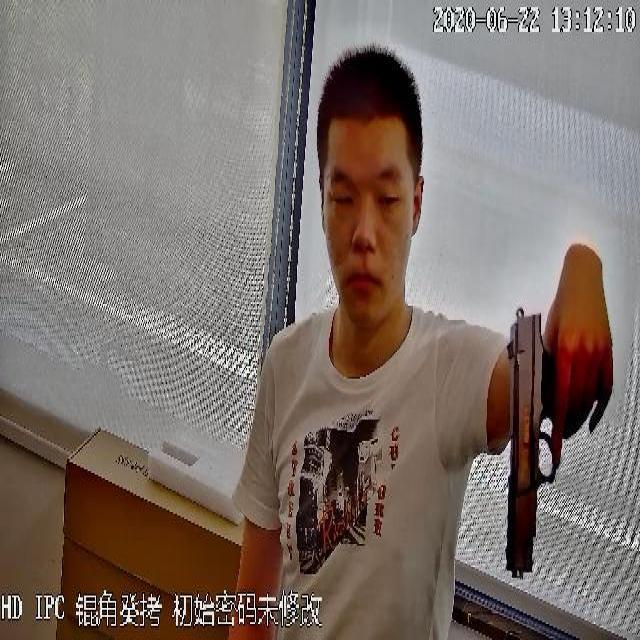pistol: (503, 298, 591, 582)
